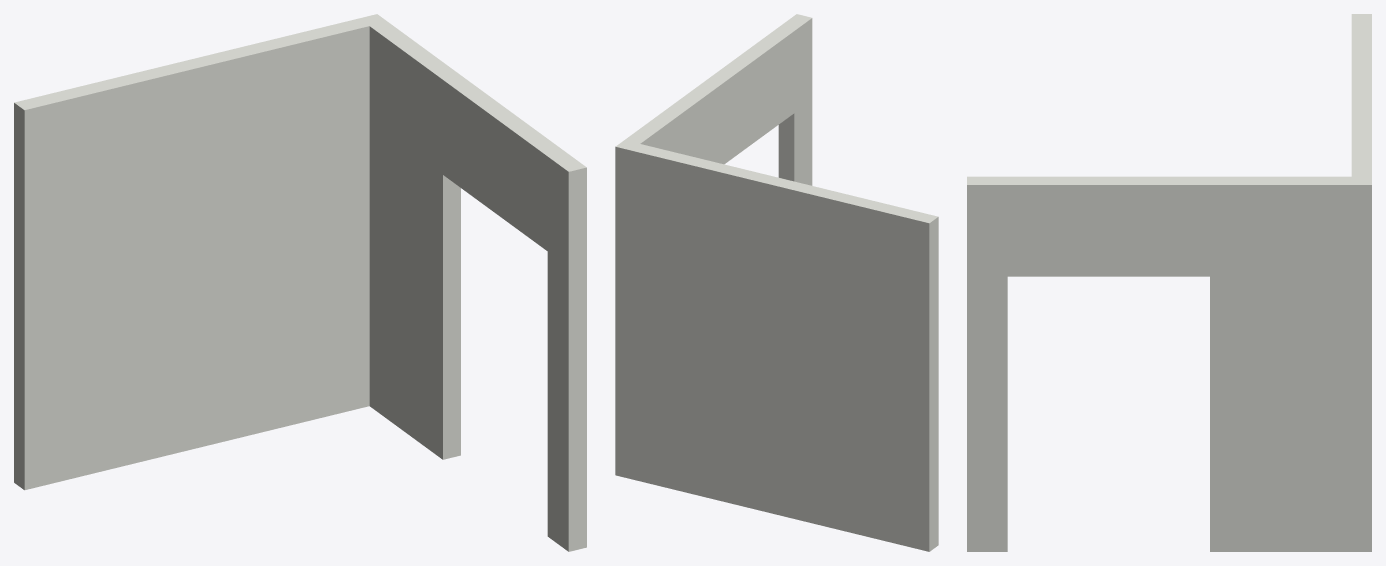
The model's file is Wal_1_6.fbx.
3 renders of one model, left to right at view 1: azimuth 30°, elevation 25°; view 2: azimuth 150°, elevation 25°; view 3: azimuth 270°, elevation 25°, orthographic. The views are drawn at different scales.
Visible parts, largest first — view 1: polySurface1866; view 2: polySurface1866; view 3: polySurface1866.
Part boxes in pixels (x1=…): polySurface1866: x1=14, y1=14, x2=586, y2=551; polySurface1866: x1=615, y1=14, x2=938, y2=551; polySurface1866: x1=967, y1=14, x2=1371, y2=551.
Size of the model in its own units: 4 by 4 by 4.
Materials: 1 (1 with a texture image).
